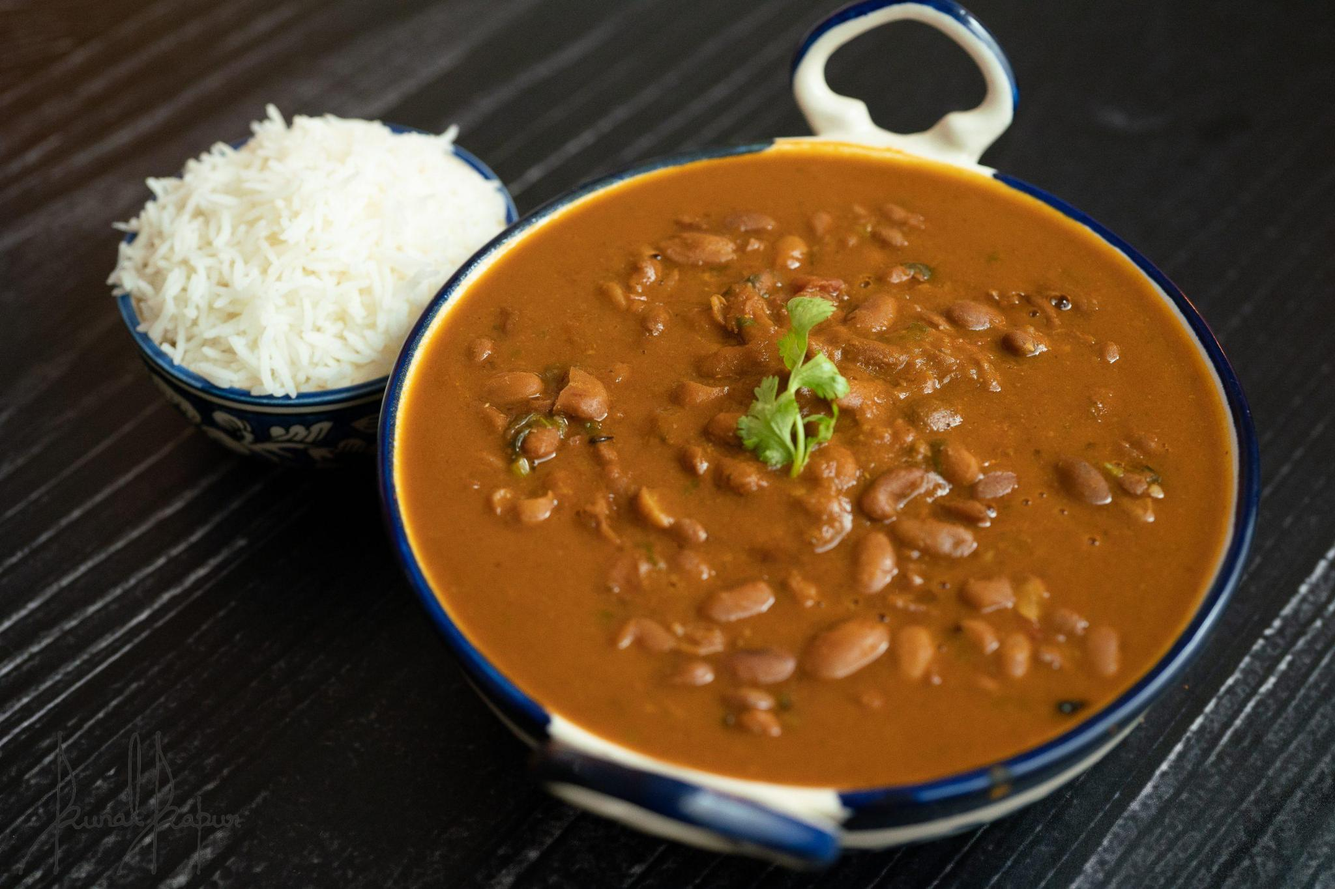rajma: (514, 216, 1192, 742)
rice: (110, 125, 428, 388)
